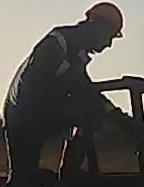helmet: (84, 1, 124, 39)
vest: (0, 27, 87, 136)
